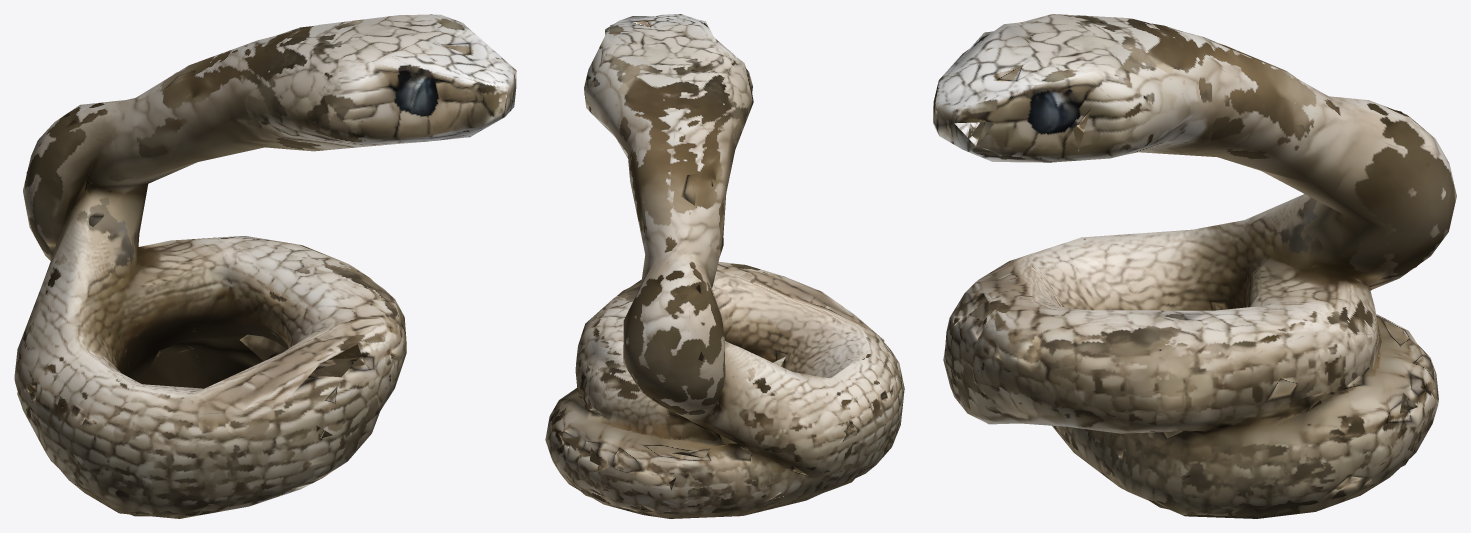
File: sandsnake.glb
The picture shows the model from 3 angles, left to right: view 1: azimuth 30°, elevation 25°; view 2: azimuth 150°, elevation 25°; view 3: azimuth 270°, elevation 25°; orthographic projection. The views are drawn at different scales.
Visible parts, largest first — view 1: geometry_0; view 2: geometry_0; view 3: geometry_0.
Boxes of the visible parts, x1,y1,x2,y2 form: geometry_0: [14, 14, 516, 518]; geometry_0: [545, 14, 904, 518]; geometry_0: [933, 14, 1456, 518].
Bounding box in the file's own units: 0.9185 × 0.9991 × 0.9834.
1 material, 1 textured.
